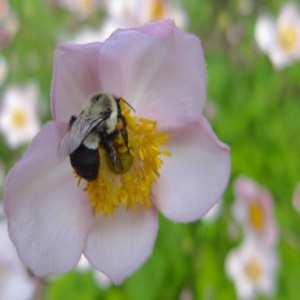bee: (57, 89, 138, 185)
